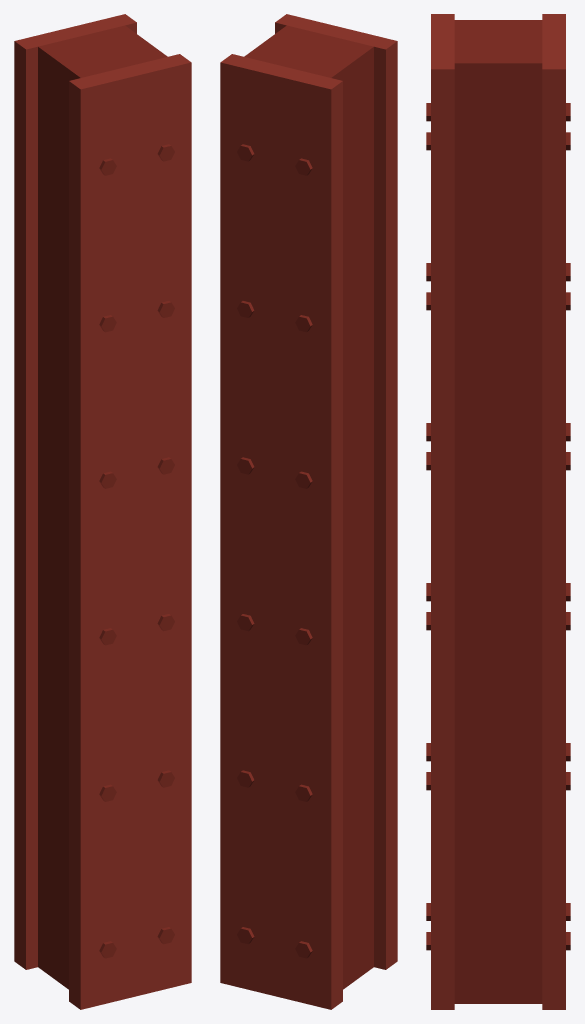
The model's file is WallPart_02.fbx.
3 views of the same model, side by side, from view 1: azimuth 30°, elevation 25°; view 2: azimuth 150°, elevation 25°; view 3: azimuth 270°, elevation 25° (orthographic). The views are drawn at different scales.
Visible parts, largest first — view 1: WallPart_02; view 2: WallPart_02; view 3: WallPart_02.
Boxes of the visible parts, box(x1,y1,x2,y2) form: WallPart_02: box(14, 14, 191, 1009); WallPart_02: box(220, 14, 397, 1009); WallPart_02: box(426, 14, 570, 1009).
Size of the model in its own units: 50.42 by 400 by 55.63.
